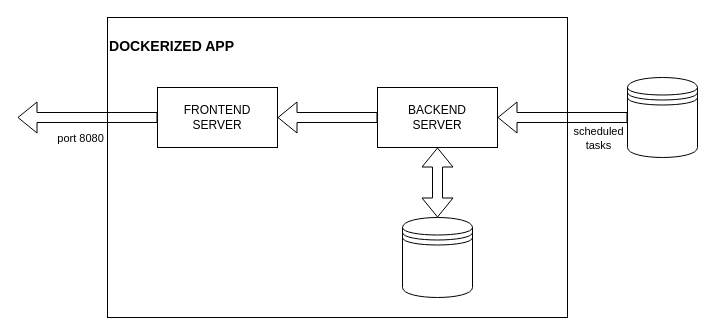
This 715x335 diagram has some shape labels left out. Here are the shapes that lost their labels. From the top down, the centre of each, then its label:
(x=662, y=117): POHODA SQL
(x=437, y=257): MySQL
